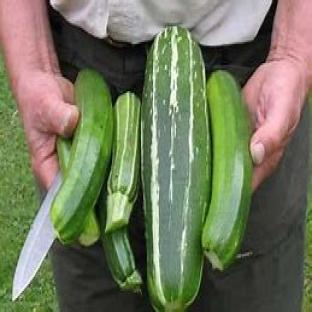Zucchini: (141, 27, 210, 311), (51, 71, 113, 243), (203, 71, 251, 269), (97, 185, 142, 292), (107, 92, 140, 233), (57, 137, 71, 178)
